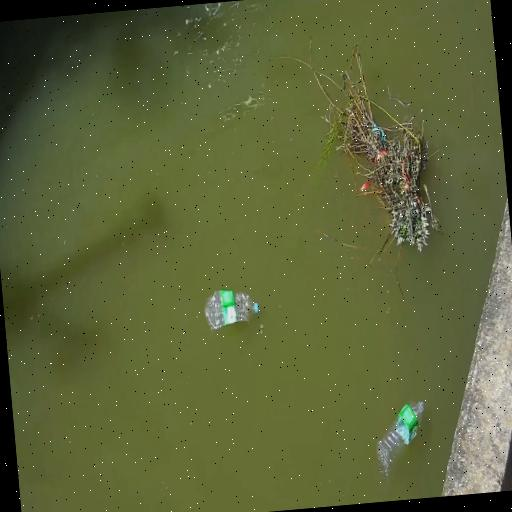plastic: (377, 401, 423, 478), (205, 290, 258, 330), (254, 302, 259, 313)
twig: (280, 38, 441, 254)
